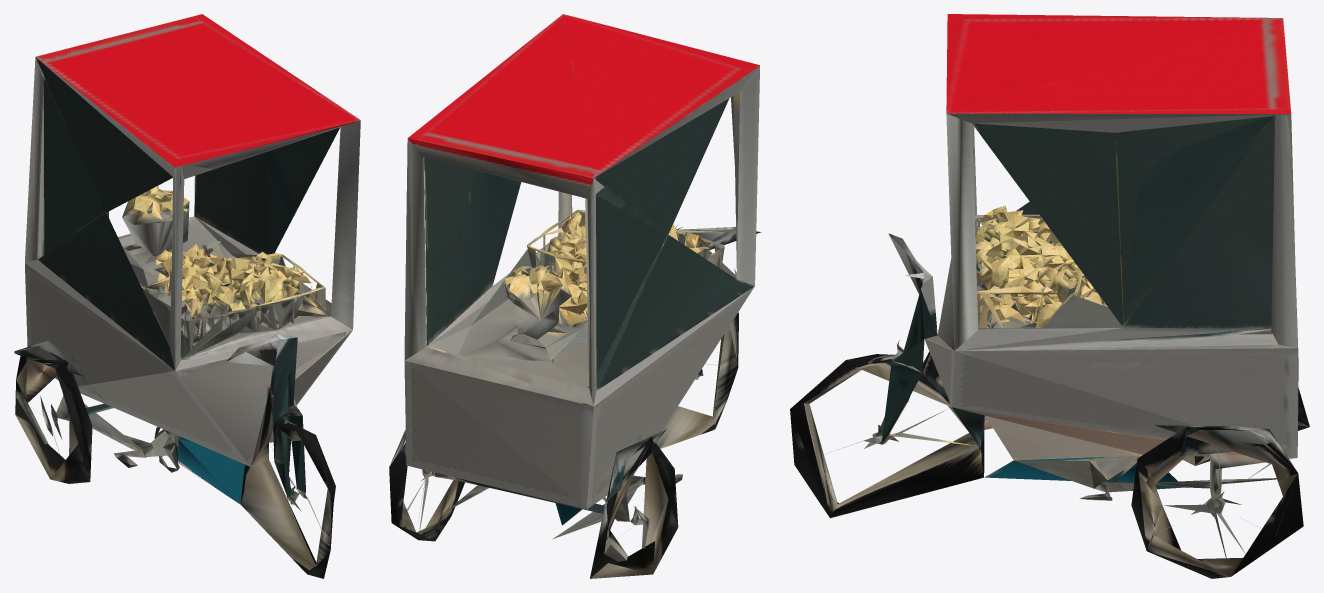
The model's file is carrinho-de-pipoca-br__01a1b60e_LOD1.glb.
3 renders of one model, left to right at view 1: azimuth 30°, elevation 25°; view 2: azimuth 150°, elevation 25°; view 3: azimuth 270°, elevation 25°, orthographic. The views are drawn at different scales.
Visible parts, largest first — view 1: carrinho-de-pipoca-br__01a1b60e_LOD1; view 2: carrinho-de-pipoca-br__01a1b60e_LOD1; view 3: carrinho-de-pipoca-br__01a1b60e_LOD1.
Part boxes in pixels (bbox=[...]): carrinho-de-pipoca-br__01a1b60e_LOD1: bbox=[14, 14, 360, 578]; carrinho-de-pipoca-br__01a1b60e_LOD1: bbox=[389, 14, 761, 578]; carrinho-de-pipoca-br__01a1b60e_LOD1: bbox=[790, 14, 1309, 578].
Size of the model in its own units: 1 by 1.87 by 1.9.
Materials: 1 (1 with a texture image).
